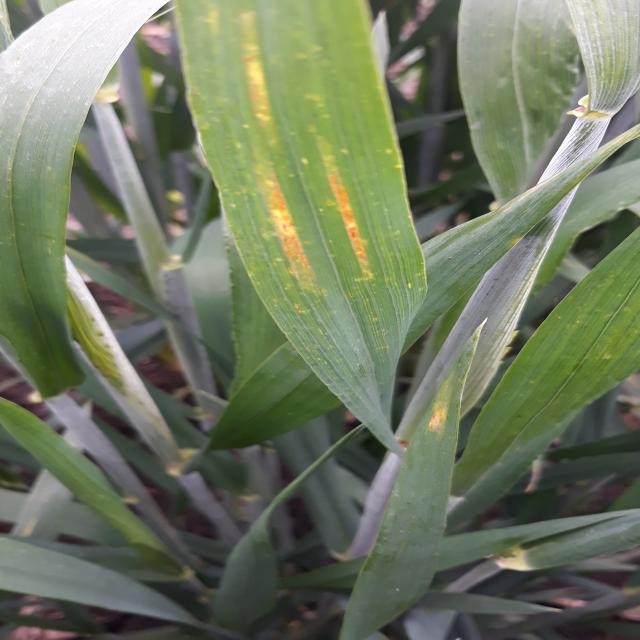yellow_rust: (140, 0, 493, 408), (42, 253, 122, 417), (392, 335, 502, 453), (496, 224, 535, 259)
